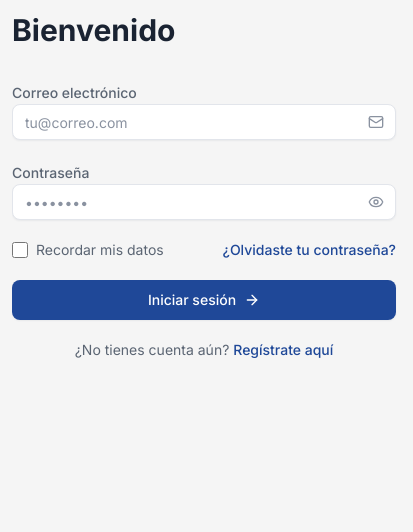
it: LoginForm — unverified account recovery › offers to resend the verification email when login fails as unverified
In the field labelled "Correo electrónico": (204, 122) [12,104,396,140], type "candidato@test.example.com"
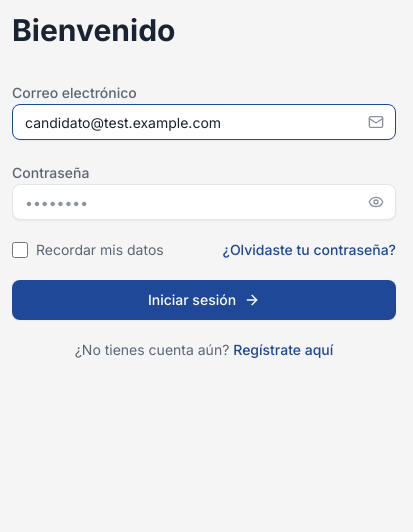
In the password field labelled "Contraseña": (204, 202) [12,184,396,220], type "StrongPass123!"
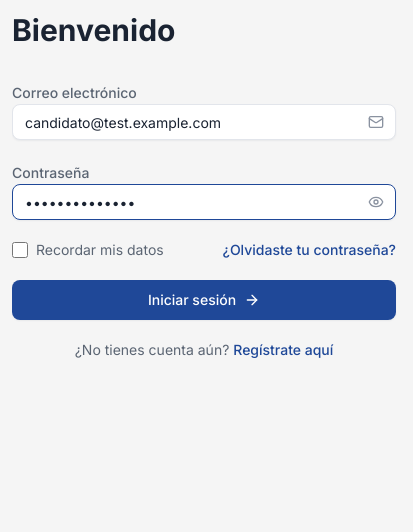
Click the button "Iniciar sesión": (204, 300) [12,280,396,320]
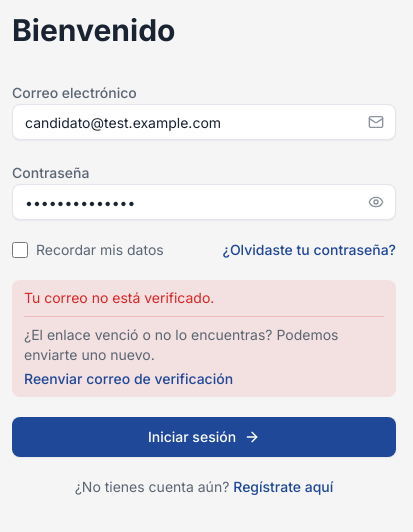
Click the button "Reenviar correo de verificación": (129, 379) [24,369,233,389]
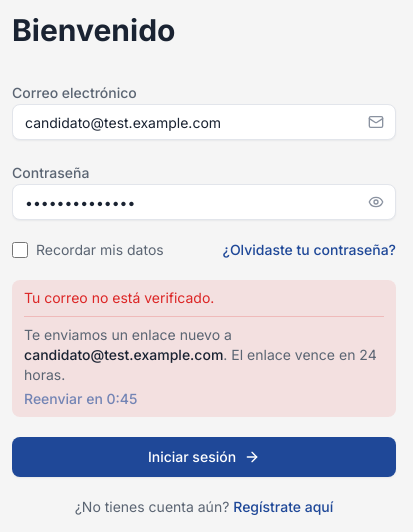
Expected: the text "Te enviamos un enlace nuevo" is shown, [24,326,232,343]
